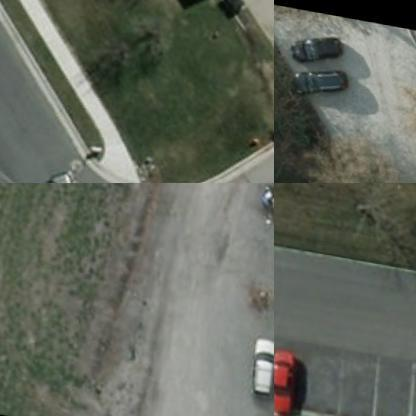car: (288, 63, 344, 95), (286, 30, 340, 62), (245, 333, 273, 392), (274, 347, 298, 414), (38, 163, 99, 182), (217, 409, 253, 415)
